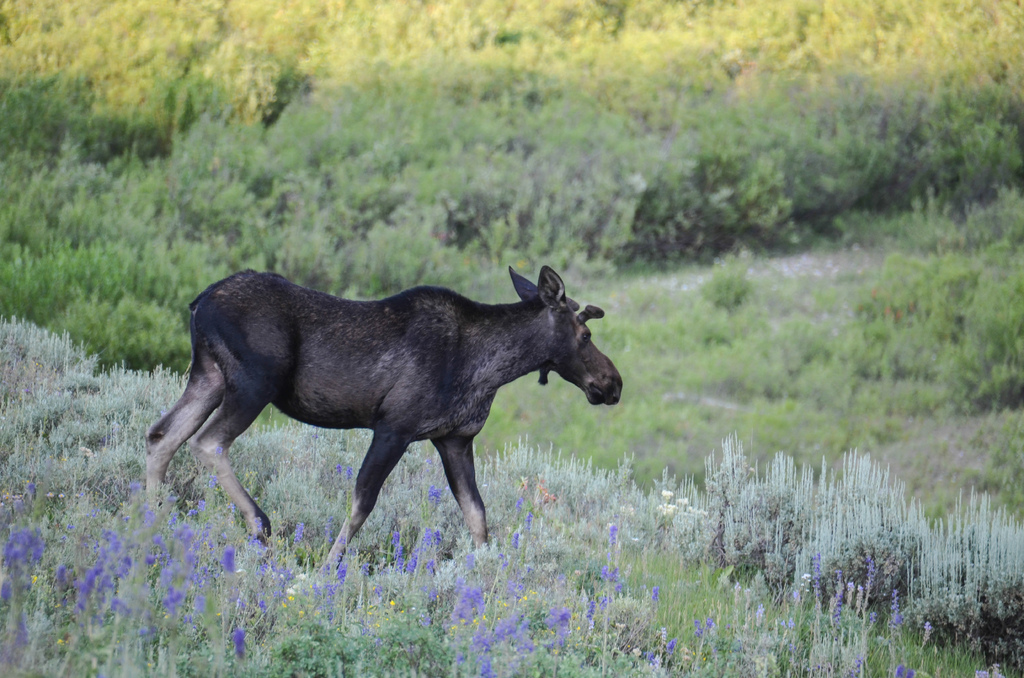Animal: (137, 266, 624, 581)
